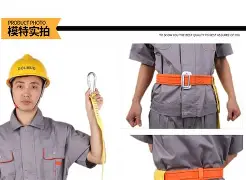safety belt2: (157, 69, 217, 91), (149, 165, 222, 179)
